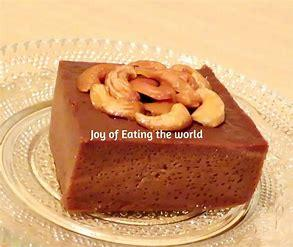Watalappam: (48, 48, 270, 227)
